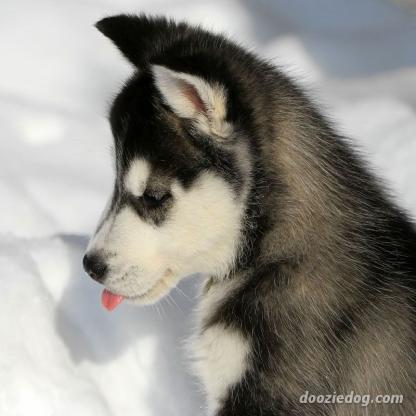dog: (76, 13, 416, 416)
